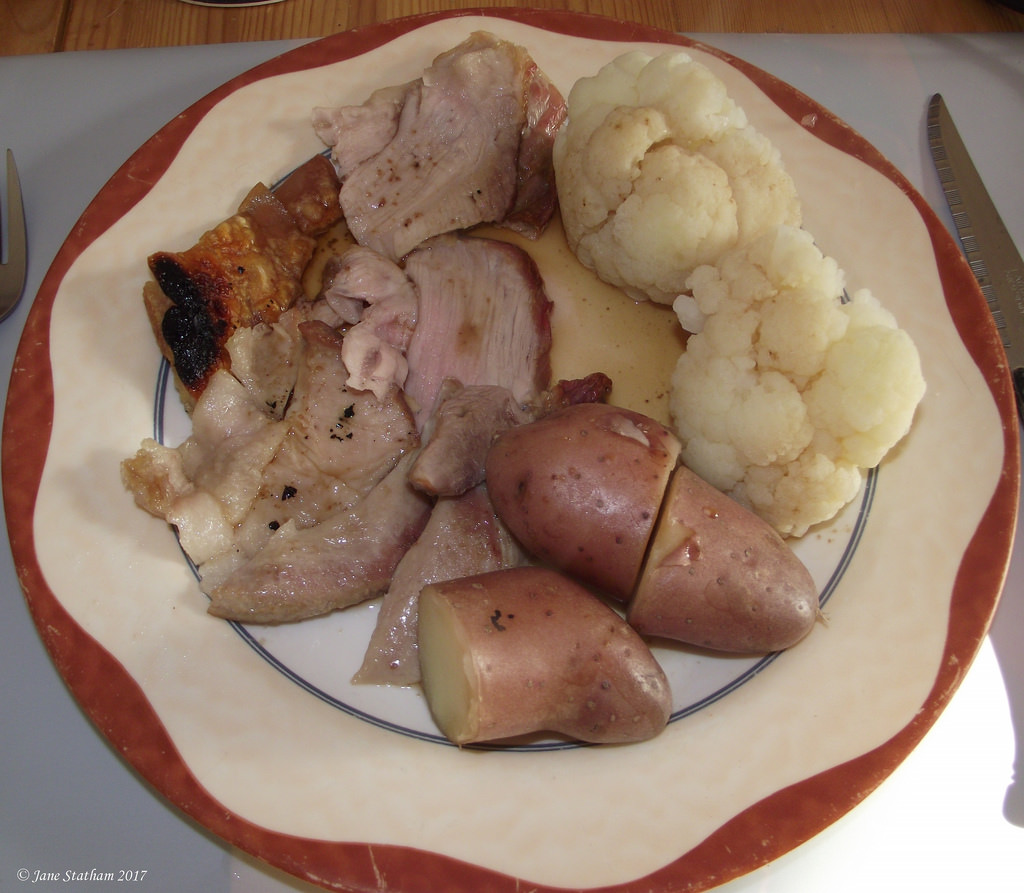boiled potatoes: (527, 428, 775, 659), (432, 582, 665, 746)
